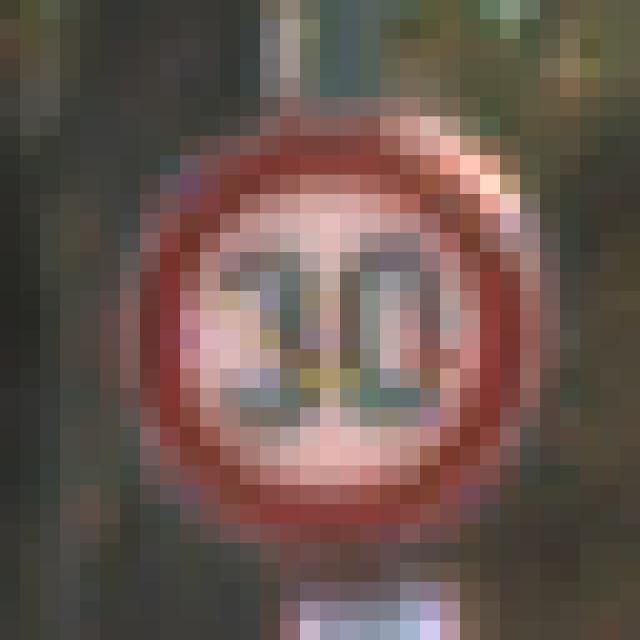Speed Limit -30-: (110, 87, 530, 514)
